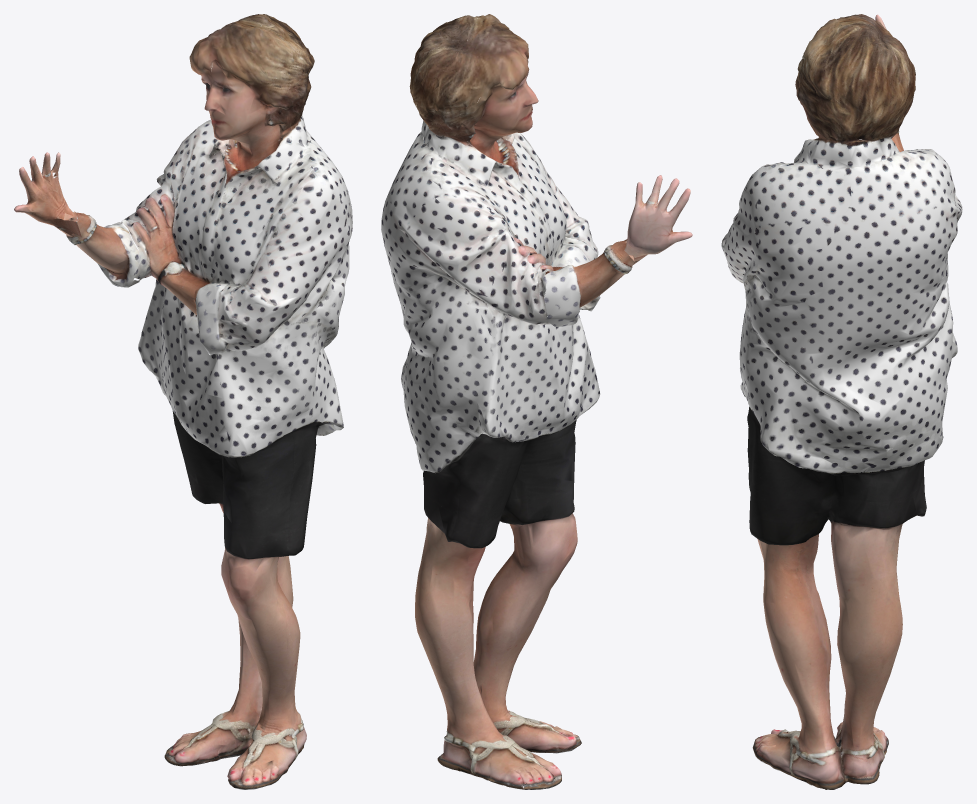
Rendered from laoren4.glb.
The picture shows the model from 3 angles, left to right: view 1: azimuth 30°, elevation 25°; view 2: azimuth 150°, elevation 25°; view 3: azimuth 270°, elevation 25°; orthographic projection. The views are drawn at different scales.
Parts seen in each view (by area): view 1: laoren004; view 2: laoren004; view 3: laoren004.
Boxes of the visible parts, left/top/right/bottom form: laoren004: left=14, top=14, right=352, bottom=789; laoren004: left=381, top=14, right=692, bottom=789; laoren004: left=721, top=14, right=962, bottom=789.
Bounding box in the file's own units: 0.7605 × 1.76 × 0.5113.
1 material, 1 textured.
